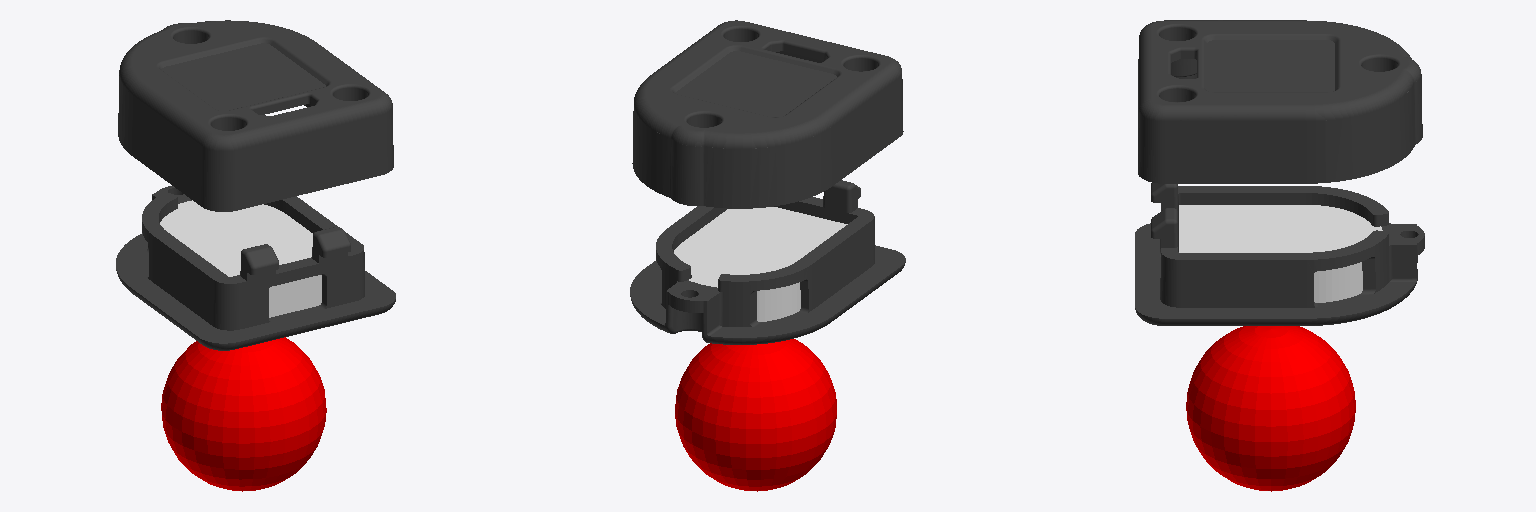
URDF robot description (digit):
<robot name="digit">
    <link name="world"/>

    <link name="ball">
        <visual>
        <origin xyz="0.0 0.0 -0.2" rpy="0 0 0" />
        <geometry>
            <sphere radius="0.01"/>
        </geometry>
        <material name="ball_material">
            <color rgba="1.0 0.0 0.0 1.0"/>
        </material>
        </visual>  
        <collision>
        <origin xyz="0.0 0.0 -0.2" rpy="0 0 0"/>
        <geometry>
            <sphere radius="0.01"/>
        </geometry>
        </collision>
    </link>
    
    <joint name = "rail" type = "prismatic">
        <parent link="world"/>    
        <child link="ball"/>    
        <origin xyz="0.0 0.0 0.0"/>    
        <axis xyz="0 0 1"/>    
        <limit lower="0.15" upper="0.161"/>    
        <dynamics damping="0.0" friction="0.0"/>  
    </joint>

    <link name="digit_base">
        <visual>
            <origin xyz="-1.7347234759768070944e-18 0.0039999999999999992159 -0.02834999999999999673" rpy="0 -0 0" />
            <geometry>
            <mesh filename="../meshes/digit_bottom.stl"/>
            </geometry>
            <material name="digit_bottom_material">
            <color rgba="0.30196078431372547213 0.30196078431372547213 0.30196078431372547213 1.0"/>
            </material>
        </visual>
        <collision>
            <origin xyz="-1.7347234759768070944e-18 0.0039999999999999992159 -0.02834999999999999673" rpy="0 -0 0" />
            <geometry>
            <mesh filename="../meshes/digit_bottom.stl"/>
            </geometry>
        </collision>
        <visual>
            <origin xyz="-1.7347234759768070944e-18 0.0039999999999999992159 -0.02834999999999999673" rpy="0 -0 0" />
            <geometry>
            <mesh filename="../meshes/digit_top.stl"/>
            </geometry>
            <material name="digit_top_material">
            <color rgba="0.30196078431372547213 0.30196078431372547213 0.30196078431372547213 1.0"/>
            </material>
        </visual>
        <collision>
            <origin xyz="-1.7347234759768070944e-18 0.0039999999999999992159 -0.02834999999999999673" rpy="0 -0 0" />
            <geometry>
            <mesh filename="../meshes/digit_top.stl"/>
            </geometry>
        </collision>
        <visual>
            <origin xyz="6.9388939039072283776e-18 0.0054726271455009002642 -0.02834999999999999673" rpy="0 -0 0" />
            <geometry>
            <mesh filename="../meshes/acrylic_window.stl"/>
            </geometry>
            <material name="acrylic_window_material">
            <color rgba="0.91764705882352937127 0.91764705882352937127 0.91764705882352937127 1.0"/>
            </material>
        </visual>
        <collision>
            <origin xyz="6.9388939039072283776e-18 0.0054726271455009002642 -0.02834999999999999673" rpy="0 -0 0" />
            <geometry>
            <mesh filename="../meshes/acrylic_window.stl"/>
            </geometry>
        </collision>
        <visual>
            <origin xyz="-1.7347234759768070944e-18 0.0039999999999999992159 -0.02834999999999999673" rpy="0 -0 0" />
            <geometry>
            <mesh filename="../meshes/digit_center.stl"/>
            </geometry>
            <material name="digit_center_material">
            <color rgba="0.30196078431372547213 0.30196078431372547213 0.30196078431372547213 1.0"/>
            </material>
        </visual>
        <collision>
            <origin xyz="-1.7347234759768070944e-18 0.0039999999999999992159 -0.02834999999999999673" rpy="0 -0 0" />
            <geometry>
            <mesh filename="../meshes/digit_center.stl"/>
            </geometry>
        </collision>
        <inertial>
            <origin xyz="5.63455410584598546e-09 -0.00036102000365889093522 -0.017219651141187425347" rpy="0 0 0"/>
            <mass value="0.011198578791898805909" />
            <inertia ixx="1.9644553798333779512e-06" ixy="-2.4770919459996182574e-12"  ixz="1.0361463195467100313e-11" iyy="1.6079833449569471555e-06" iyz="3.8106738589359573195e-09" izz="1.878363607520652625e-06" />
        </inertial>
    </link>

    <joint name="world_digit" type="fixed">
        <origin xyz="0 0 0" rpy="0 0 0" />
        <parent link="world" />
        <child link="digit_base" />
        <axis xyz="0 0 0"/>
    </joint>

    <link name="gel">
        <fem>
        <origin xyz="3.4694469519536141888e-18 0.005472545706442896 -0.0242" rpy="0 3.141592653589793116 0" />
        <density value="1e3"/>
        <youngs value="1e6"/>
        <poissons value="0.3"/>
        <damping value="0.0"/>

        <!-- Soft body trembles for unknown reasons. TODO -->
        <attachDistance value="1.0e-3"/>
        
        <tetmesh filename="../meshes/gel.tet"/>
        </fem>
    </link>

    <joint name="attach" type="fixed">
        <origin xyz="0 0 0" rpy="0 0 0" />
        <parent link="digit_base" />
        <child link="gel" />
        <axis xyz="0 0 0"/>
    </joint>

    <!-- <link name="gel">
        <visual>
            <origin xyz="0 -0.017265197057134345354 0.0041499999999999974409" rpy="3.141592653589793116 -0 0" />
            <geometry>
            <mesh filename="../meshes/gel.stl"/>
            </geometry>
            <material name="gel_material">
            <color rgba="1 1 1 1.0"/>
            </material>
        </visual>
        <collision>
            <origin xyz="0 -0.017265197057134345354 0.0041499999999999974409" rpy="3.141592653589793116 -0 0" />
            <geometry>
            <mesh filename="../meshes/gel.stl"/>
            </geometry>
        </collision>
        <inertial>
            <origin xyz="-8.5602937331140888203e-07 -0.011723770481359294116 -0.0016105116766832513336" rpy="0 0 0"/>
            <mass value="0.0014345905870518961545" />
            <inertia ixx="6.0313927889399397696e-08" ixy="4.7367407930572109158e-12"  ixz="-2.9117704751932360282e-13" iyy="3.3418770542100367402e-08" iyz="-1.7264897120244444177e-10" izz="9.0887399872856152826e-08" />
        </inertial>
    </link> -->

    <!-- <joint name="attach" type="fixed">
        <origin xyz="3.4694469519536141888e-18 -0.011792651350691449319 -0.02834999999999999673" rpy="0 -0 3.141592653589793116" />
        <parent link="digit_base" />
        <child link="gel" />
        <axis xyz="0 0 1"/>
        <limit effort="1" velocity="20" />
        <joint_properties friction="0.0"/>
    </joint> -->

</robot>

--- What the picture shows (computed from the rendered views, not written in the file) ---
Views: 3 orthographic renders of the robot side by side, from view 1: azimuth 30°, elevation 25°; view 2: azimuth 150°, elevation 25°; view 3: azimuth 270°, elevation 25°.
Model digit with 4 links and 3 joints (1 prismatic, 2 fixed), rooted at world, posed joints at zero except 1 at the middle of their limits (rail = 0.1555).
Visible links, largest first — view 1: digit_base, ball; view 2: digit_base, ball; view 3: digit_base, ball.
Link boxes in pixels (bbox=[...]): digit_base: bbox=[116, 20, 395, 350]; ball: bbox=[161, 337, 326, 491]; digit_base: bbox=[630, 20, 905, 344]; ball: bbox=[675, 339, 836, 491]; digit_base: bbox=[1135, 20, 1424, 325]; ball: bbox=[1186, 326, 1355, 491].
Bounding box of the posed robot: 0.0269 × 0.034 × 0.0545 m (x, y, z).
3 mesh visuals loaded from 4 distinct referenced files (3 binary STL); not drawn: 1 (reference not matched to a file when rendering).